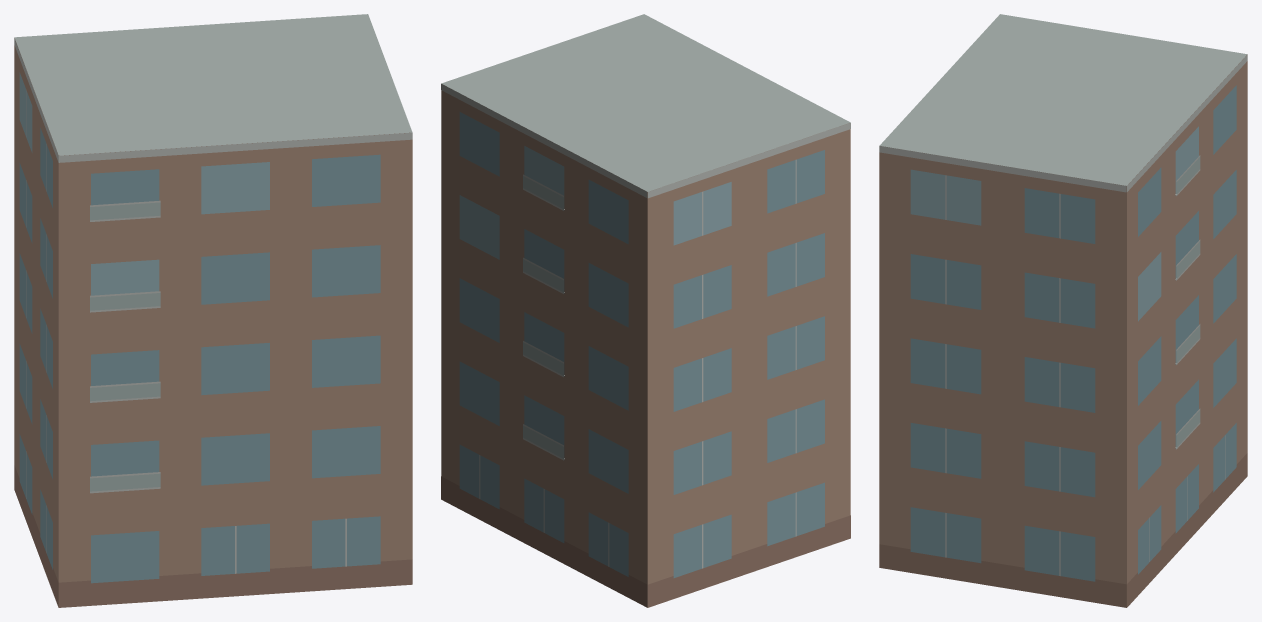
The model's file is survey-upis-32878385.glb.
The picture shows the model from 3 angles, left to right: view 1: azimuth 30°, elevation 25°; view 2: azimuth 150°, elevation 25°; view 3: azimuth 270°, elevation 25°; orthographic projection. The views are drawn at different scales.
Visible parts, largest first — view 1: survey-upis-32878385.tmp; view 2: survey-upis-32878385.tmp; view 3: survey-upis-32878385.tmp.
Boxes of the visible parts, left/top/right/bottom form: survey-upis-32878385.tmp: left=14, top=14, right=412, bottom=607; survey-upis-32878385.tmp: left=441, top=14, right=850, bottom=607; survey-upis-32878385.tmp: left=879, top=14, right=1247, bottom=607.
Bounding box in the file's own units: 13.55 × 15.5 × 12.27.
